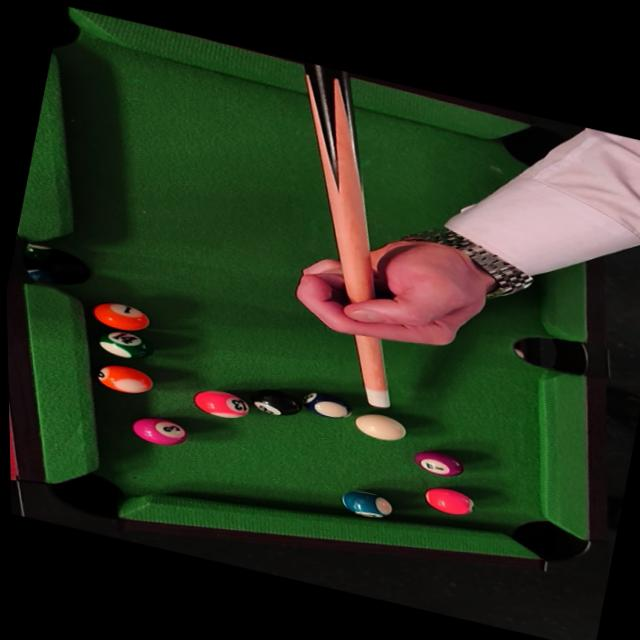cue ball: (345, 404, 419, 449)
other: (83, 320, 159, 367), (81, 294, 160, 338), (241, 380, 313, 427), (123, 409, 194, 453), (187, 380, 257, 424), (88, 358, 159, 398), (404, 444, 475, 484), (290, 383, 359, 423), (333, 482, 398, 524), (418, 481, 484, 520)
